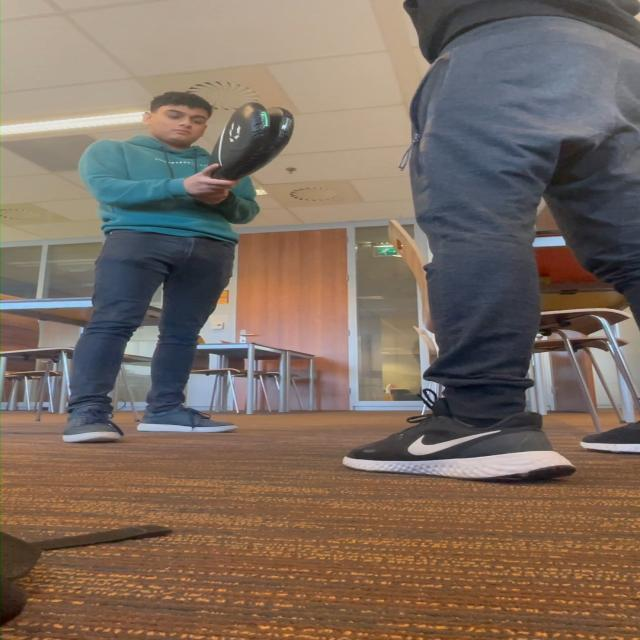paddle: (210, 102, 286, 178)
trigger: (249, 108, 274, 133)
